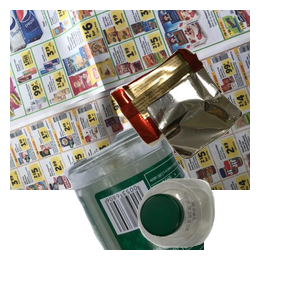glass: (60, 120, 300, 300)
paper: (10, 10, 250, 190)
plastic: (135, 176, 300, 300)
trash: (107, 46, 300, 198)
